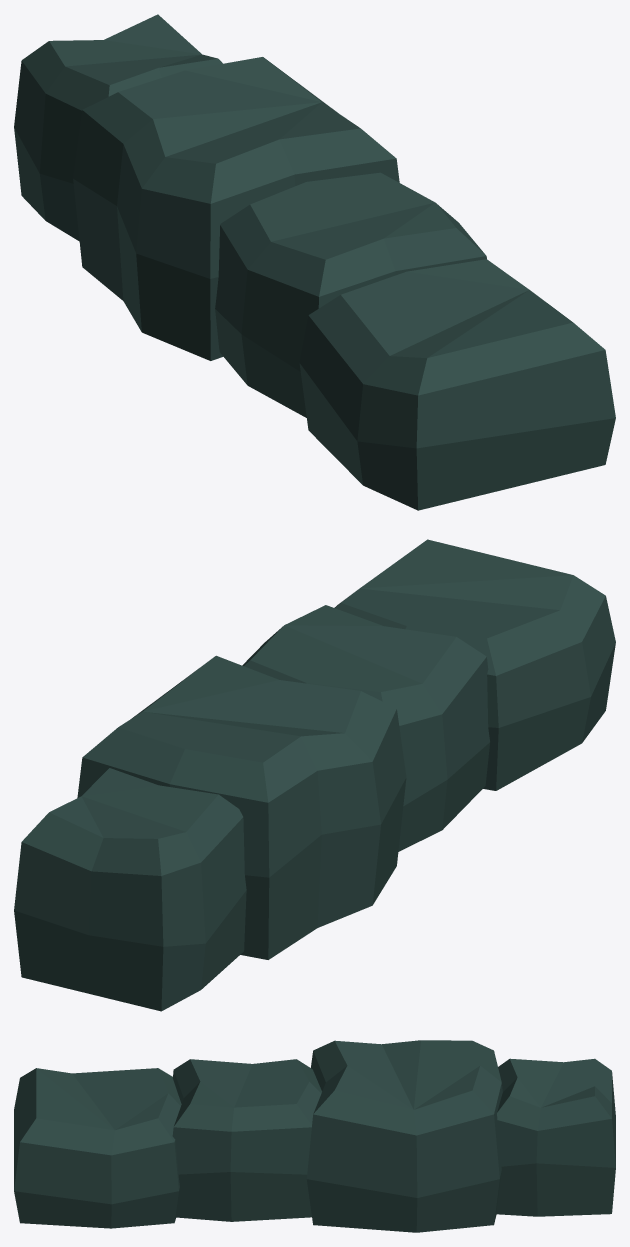
The model's file is wall_acc_03.FBX.
The picture shows the model from 3 angles, top to bottom: view 1: azimuth 30°, elevation 25°; view 2: azimuth 150°, elevation 25°; view 3: azimuth 270°, elevation 25°; orthographic projection. The views are drawn at different scales.
Visible parts, largest first — view 1: wall_acc_03; view 2: wall_acc_03; view 3: wall_acc_03.
Part boxes in pixels (bbox=[...]): wall_acc_03: bbox=[14, 14, 615, 510]; wall_acc_03: bbox=[14, 539, 615, 1011]; wall_acc_03: bbox=[14, 1040, 615, 1232].
Bounding box in the file's own units: 34.05 × 24.07 × 103.
